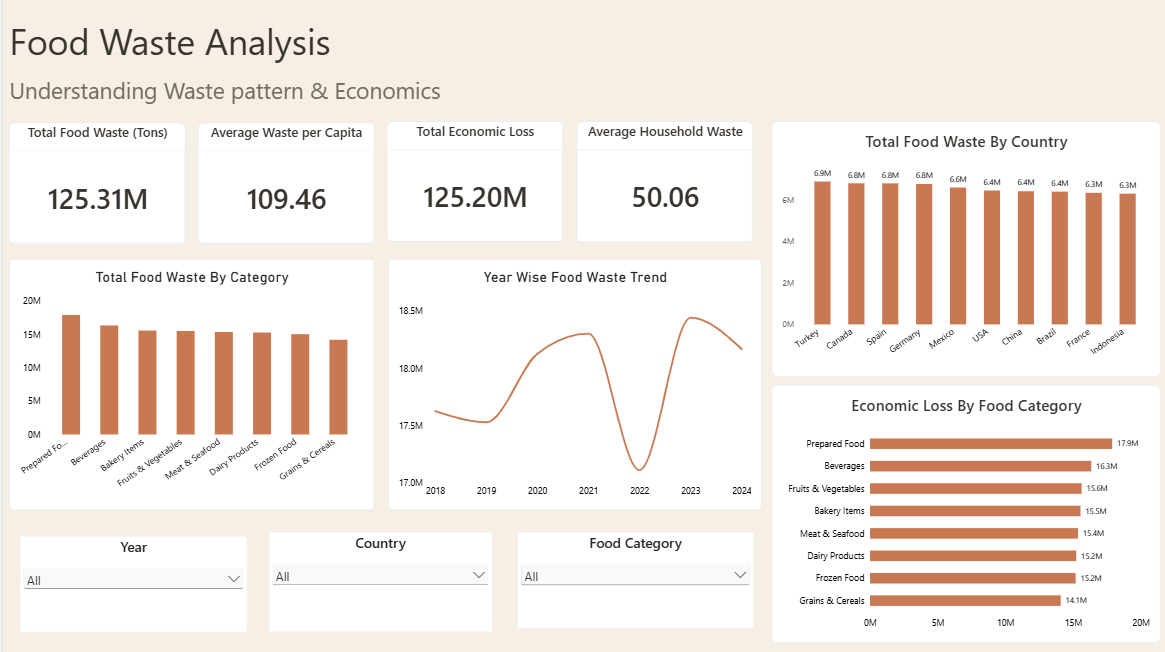

What the dashboard file says about the page in this screenshot:
{"tool":"powerbi","page":{"name":"Page 1","canvas":[1920,1080],"ordinal":0},"visuals":[{"type":"textbox","box":[10.3,28.8,811,158.5],"z":0},{"type":"cardVisual","title":"Total Food Waste (Tons)","fields":{"Data":["food_analysis food_wastage_dataset.Total Food Waste (Tons)"]},"box":[10.3,203.8,290.2,199.7],"z":1},{"type":"cardVisual","title":"Total Economic Loss","fields":{"Data":["food_analysis food_wastage_dataset.Total Economic Loss"]},"box":[631.9,201.7,290.2,197.6],"z":2},{"type":"cardVisual","title":"Average Waste per Capita","fields":{"Data":["food_analysis food_wastage_dataset.Average Waste per Capita (Kg)"]},"box":[321.1,203.8,290,199],"z":3},{"type":"cardVisual","title":"Average Household Waste","fields":{"Data":["food_analysis food_wastage_dataset.Average Household Waste (%)"]},"box":[944.8,201.7,290,199],"z":4},{"type":"columnChart","title":"Total Food Waste By Category","fields":{"Category":["food_analysis food_wastage_dataset.Food Category"],"Y":["Sum(food_analysis food_wastage_dataset.Total Waste (Tons))"]},"box":[10.3,428.1,601,413.7],"z":5},{"type":"clusteredColumnChart","title":"Total Food Waste By Country","fields":{"Category":["food_analysis food_wastage_dataset.Country"],"Y":["Sum(food_analysis food_wastage_dataset.Total Waste (Tons))"]},"box":[1265.9,201.7,640.1,419.9],"z":6},{"type":"lineChart","title":"Year Wise Food Waste Trend","fields":{"Category":["food_analysis food_wastage_dataset.Year"],"Y":["Sum(food_analysis food_wastage_dataset.Total Waste (Tons))"]},"box":[634,428.1,615.4,413.7],"z":7},{"type":"slicer","title":"Year","fields":{"Values":["food_analysis food_wastage_dataset.Year"]},"box":[28.8,885.1,372.6,156.4],"z":8},{"type":"slicer","title":"Country","fields":{"Values":["food_analysis food_wastage_dataset.Country"]},"box":[438.4,878.9,366.4,162.6],"z":9},{"type":"slicer","title":"Food Category","fields":{"Values":["food_analysis food_wastage_dataset.Food Category"]},"box":[848,878.9,387,156.4],"z":10},{"type":"clusteredBarChart","title":"Economic Loss By Food Category","fields":{"Y":["Sum(food_analysis food_wastage_dataset.Economic Loss (Million $))"],"Category":["food_analysis food_wastage_dataset.Food Category"]},"box":[1265.9,636,640.1,424],"z":11}]}

Visuals, with their boxes in screenshot pixels (x1, y1, x2, y2), scaled from the page's 1920x1080 canvas onto the 1165x652 screenshot:
textbox: bbox=(6, 17, 498, 113)
"Total Food Waste (Tons)" cardVisual: bbox=(6, 123, 182, 244)
"Total Economic Loss" cardVisual: bbox=(383, 122, 560, 241)
"Average Waste per Capita" cardVisual: bbox=(195, 123, 371, 243)
"Average Household Waste" cardVisual: bbox=(573, 122, 749, 242)
"Total Food Waste By Category" columnChart: bbox=(6, 258, 371, 508)
"Total Food Waste By Country" clusteredColumnChart: bbox=(768, 122, 1157, 375)
"Year Wise Food Waste Trend" lineChart: bbox=(385, 258, 758, 508)
"Year" slicer: bbox=(17, 534, 244, 629)
"Country" slicer: bbox=(266, 531, 488, 629)
"Food Category" slicer: bbox=(515, 531, 749, 625)
"Economic Loss By Food Category" clusteredBarChart: bbox=(768, 384, 1157, 640)
